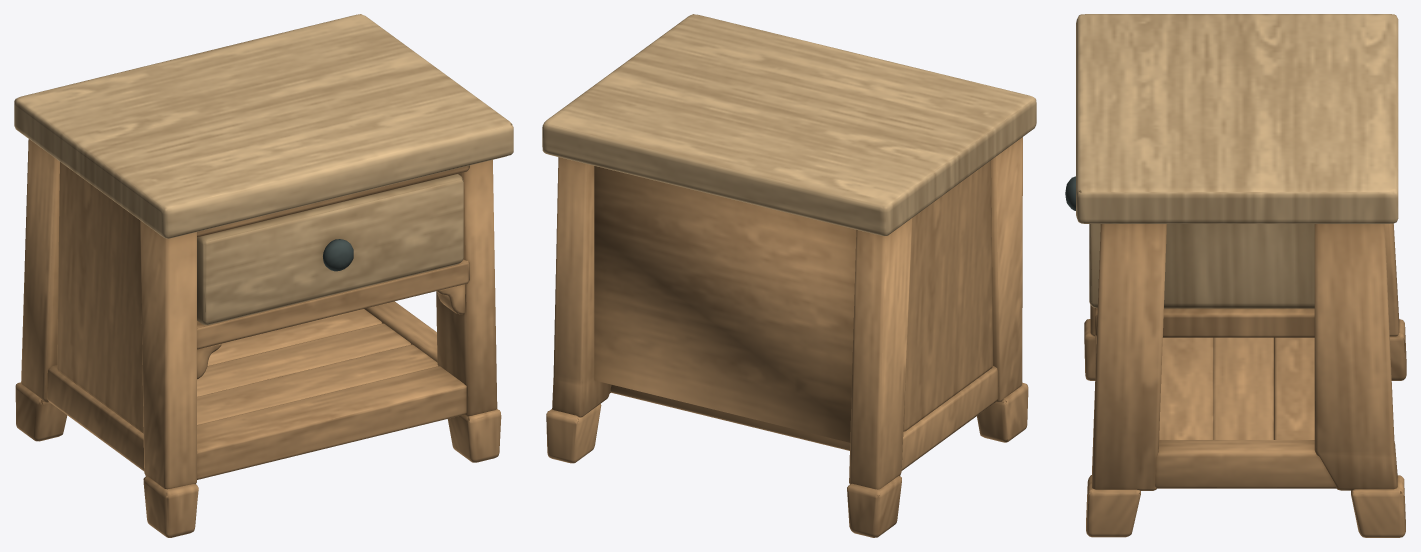
The model's file is bedside-table.glb.
The picture shows the model from 3 angles, left to right: view 1: azimuth 30°, elevation 25°; view 2: azimuth 150°, elevation 25°; view 3: azimuth 270°, elevation 25°; orthographic projection. The views are drawn at different scales.
Parts seen in each view (by area): view 1: bedside-table; view 2: bedside-table; view 3: bedside-table.
Boxes of the visible parts, x1,y1,x2,y2 form: bedside-table: [14, 14, 513, 537]; bedside-table: [542, 14, 1036, 537]; bedside-table: [1065, 14, 1406, 537].
Bounding box in the file's own units: 0.998 × 0.916 × 0.8027.
1 material, 1 textured.
